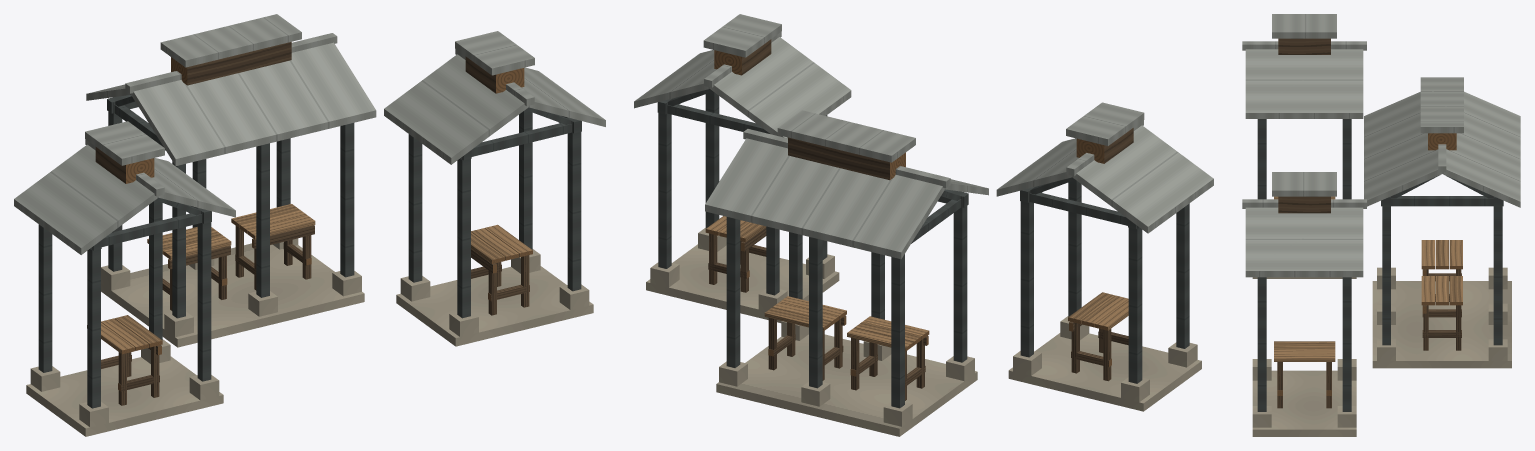
Rendered from tegucigalpa.glb.
3 views of the same model, side by side, from view 1: azimuth 30°, elevation 25°; view 2: azimuth 150°, elevation 25°; view 3: azimuth 270°, elevation 25° (orthographic). The views are drawn at different scales.
Parts seen in each view (by area): view 1: tegucigalpa; view 2: tegucigalpa; view 3: tegucigalpa.
Boxes of the visible parts, left/top/right/bottom form: tegucigalpa: left=14, top=14, right=605, bottom=436; tegucigalpa: left=634, top=14, right=1213, bottom=436; tegucigalpa: left=1242, top=14, right=1520, bottom=436.
Bounding box in the file's own units: 5.31 × 2.5 × 2.79.
1 material, 1 textured.
